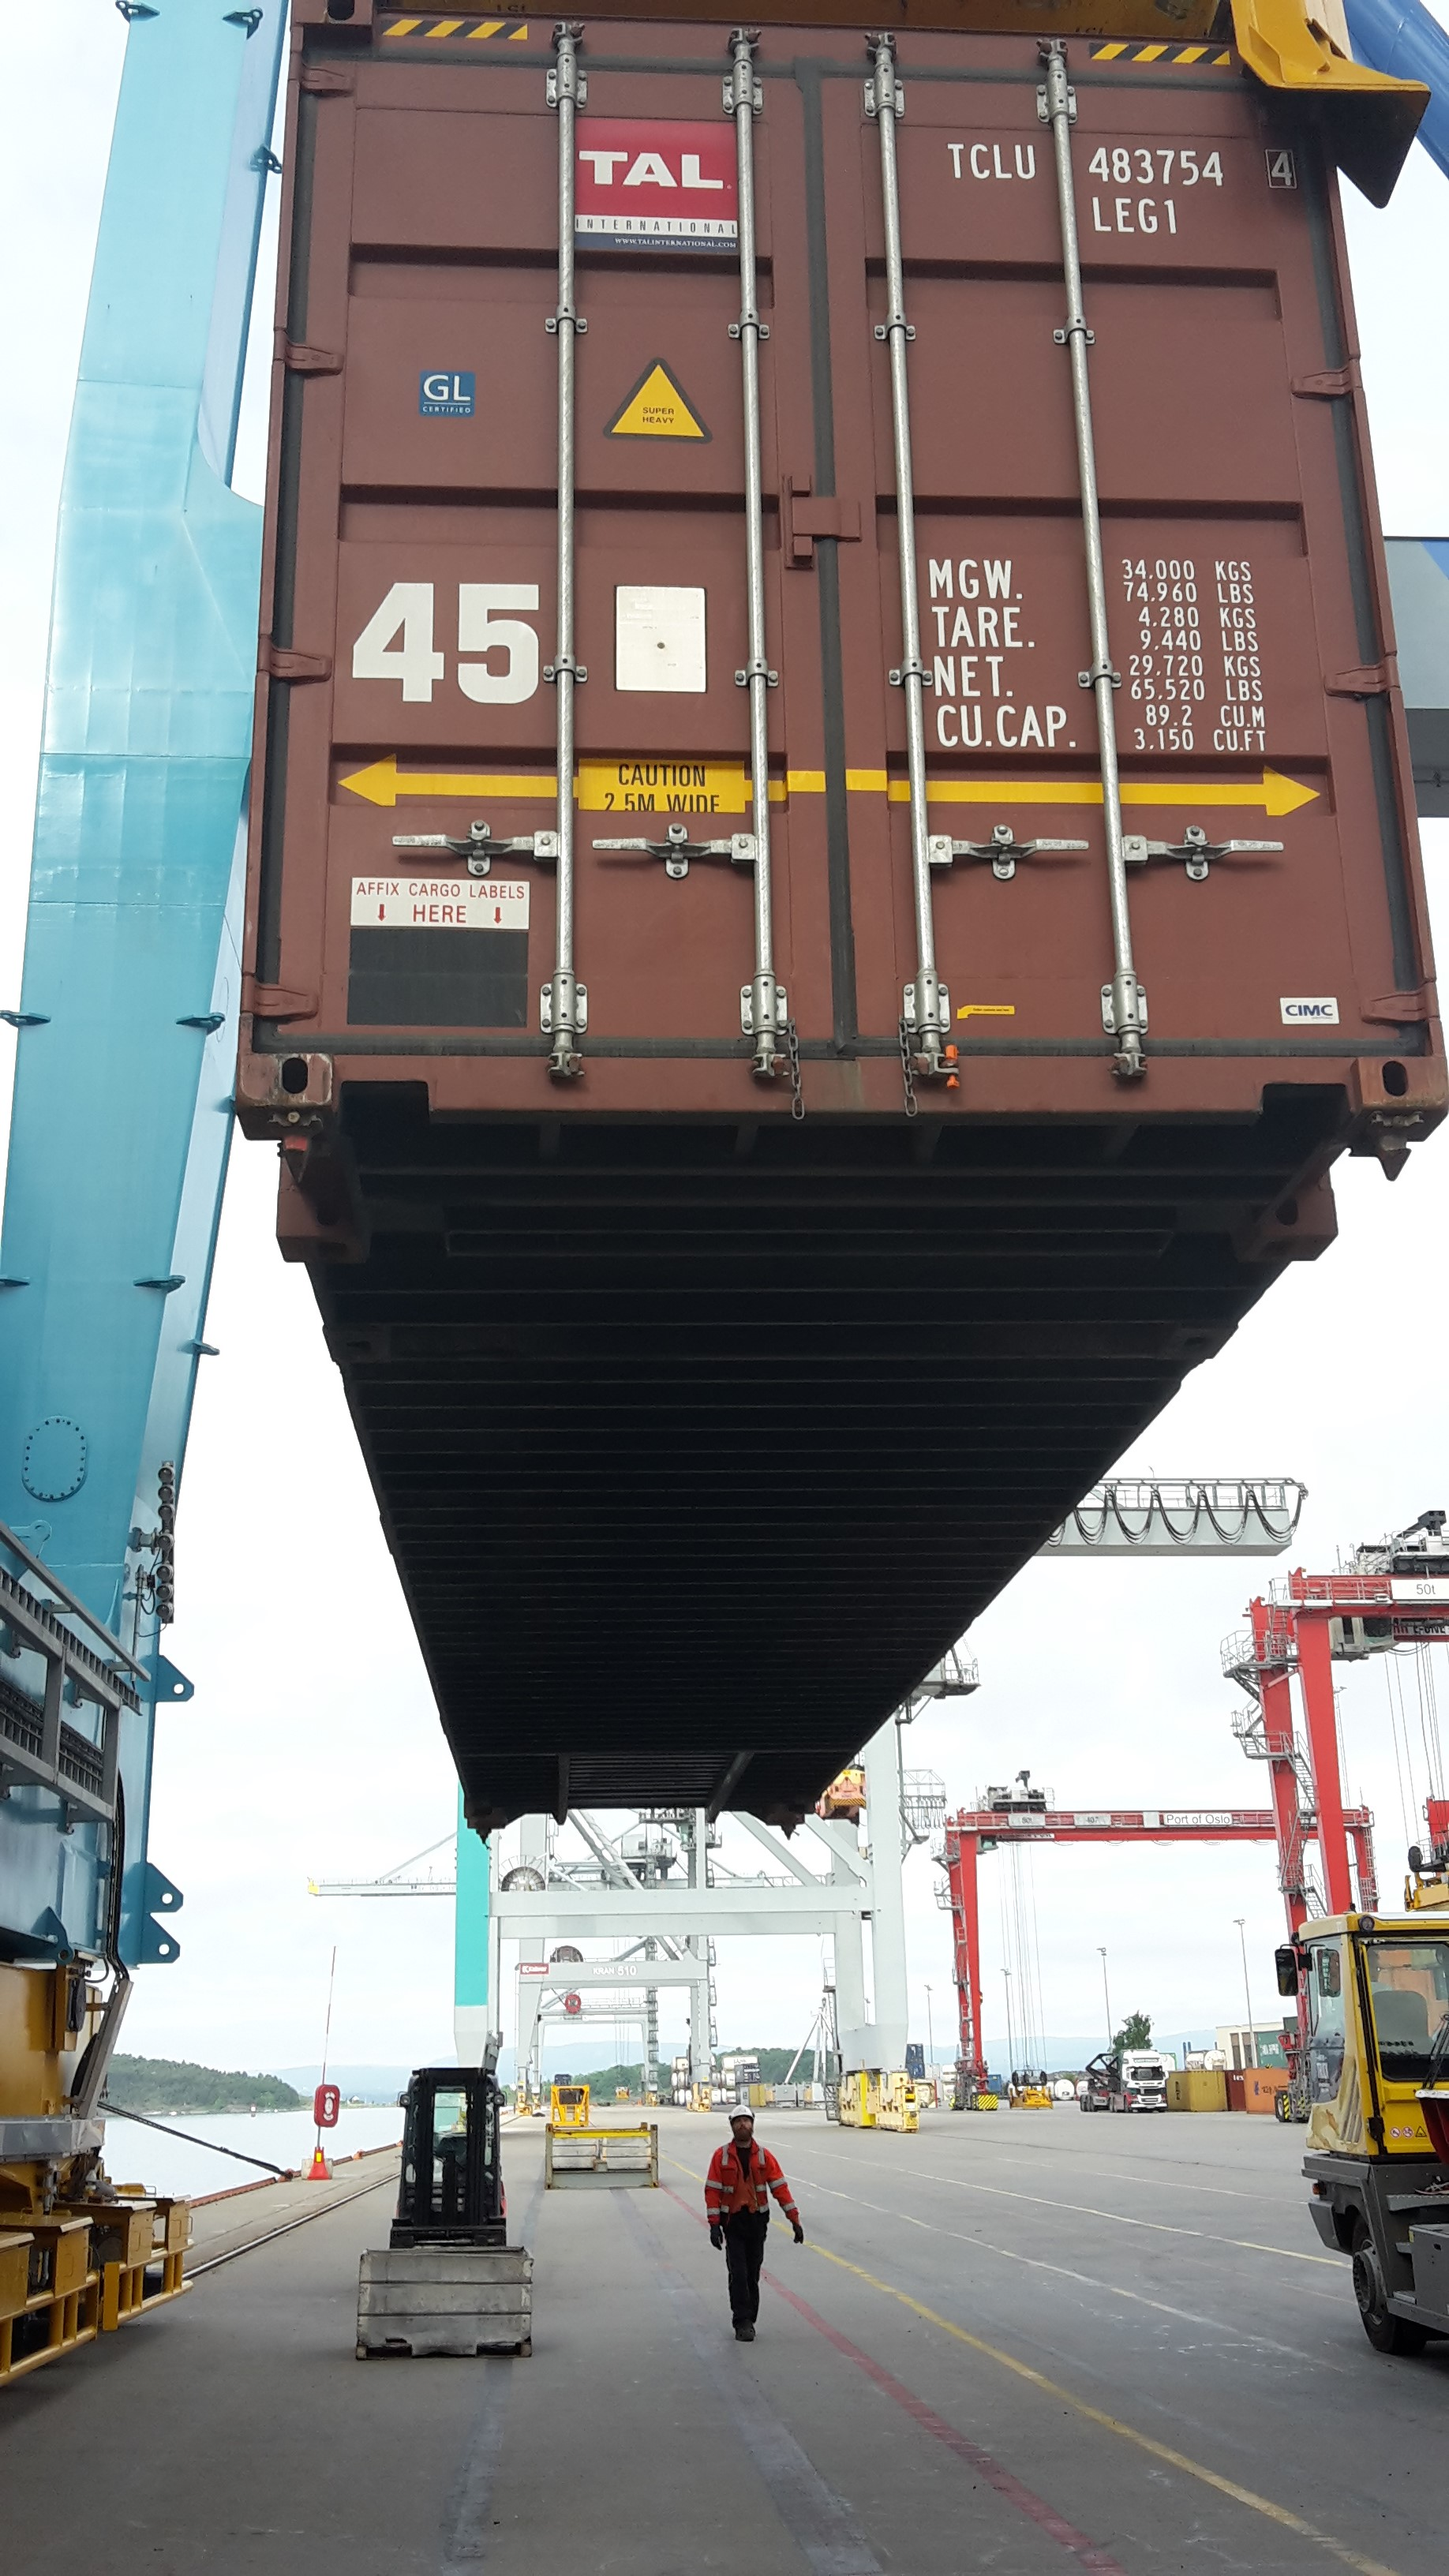container_door: (311, 4, 1385, 1104)
